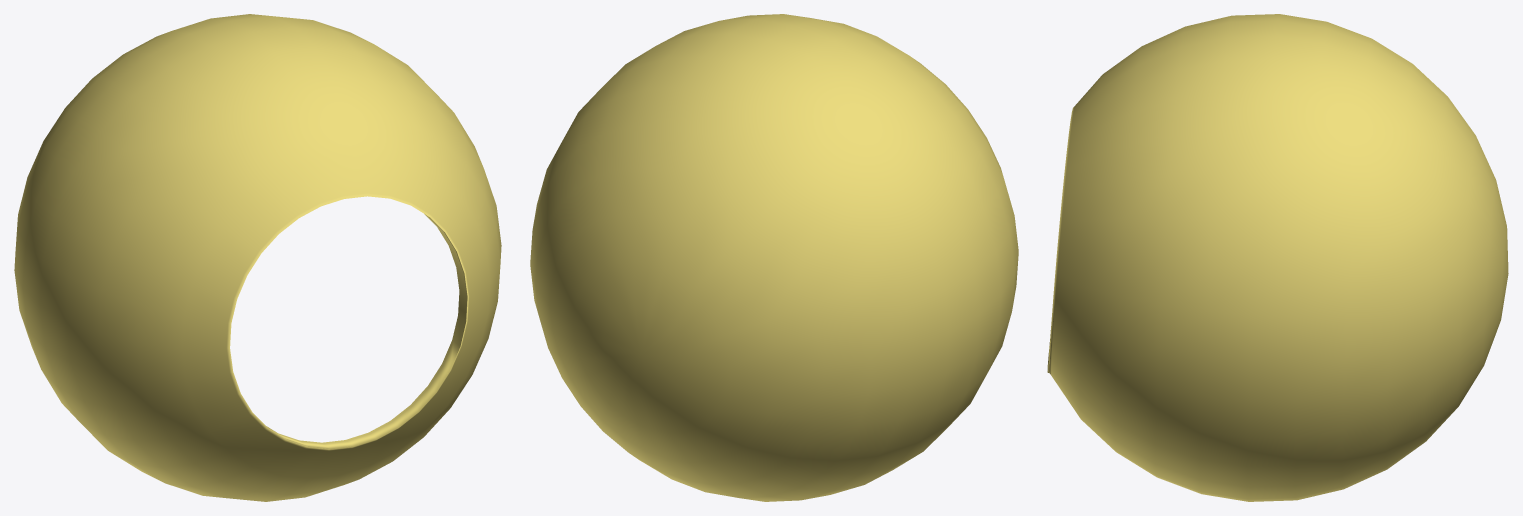
Rendered from sclera-r.glb.
3 views of the same model, side by side, from view 1: azimuth 30°, elevation 25°; view 2: azimuth 150°, elevation 25°; view 3: azimuth 270°, elevation 25° (orthographic).
Parts seen in each view (by area): view 1: Sclera.r; view 2: Sclera.r; view 3: Sclera.r.
Boxes of the visible parts, left/top/right/bottom form: Sclera.r: left=14, top=14, right=501, bottom=501; Sclera.r: left=530, top=14, right=1018, bottom=501; Sclera.r: left=1047, top=14, right=1508, bottom=501.
Bounding box in the file's own units: 0.0266 × 0.0266 × 0.0251.
